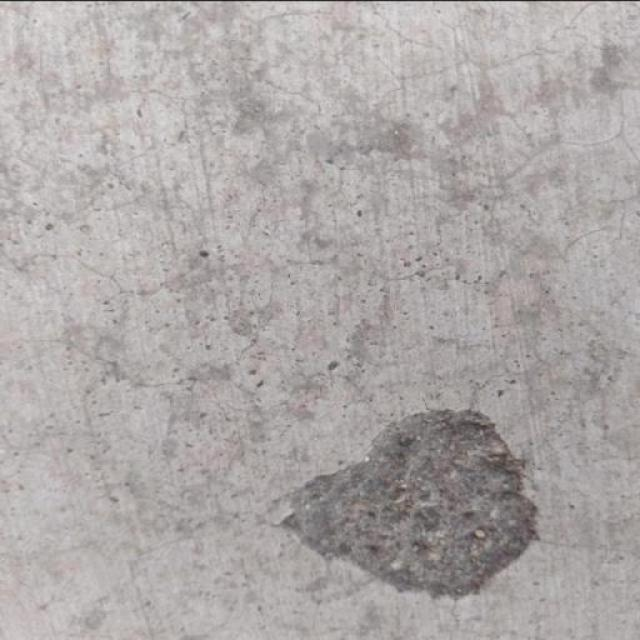D10: (281, 408, 540, 598)
